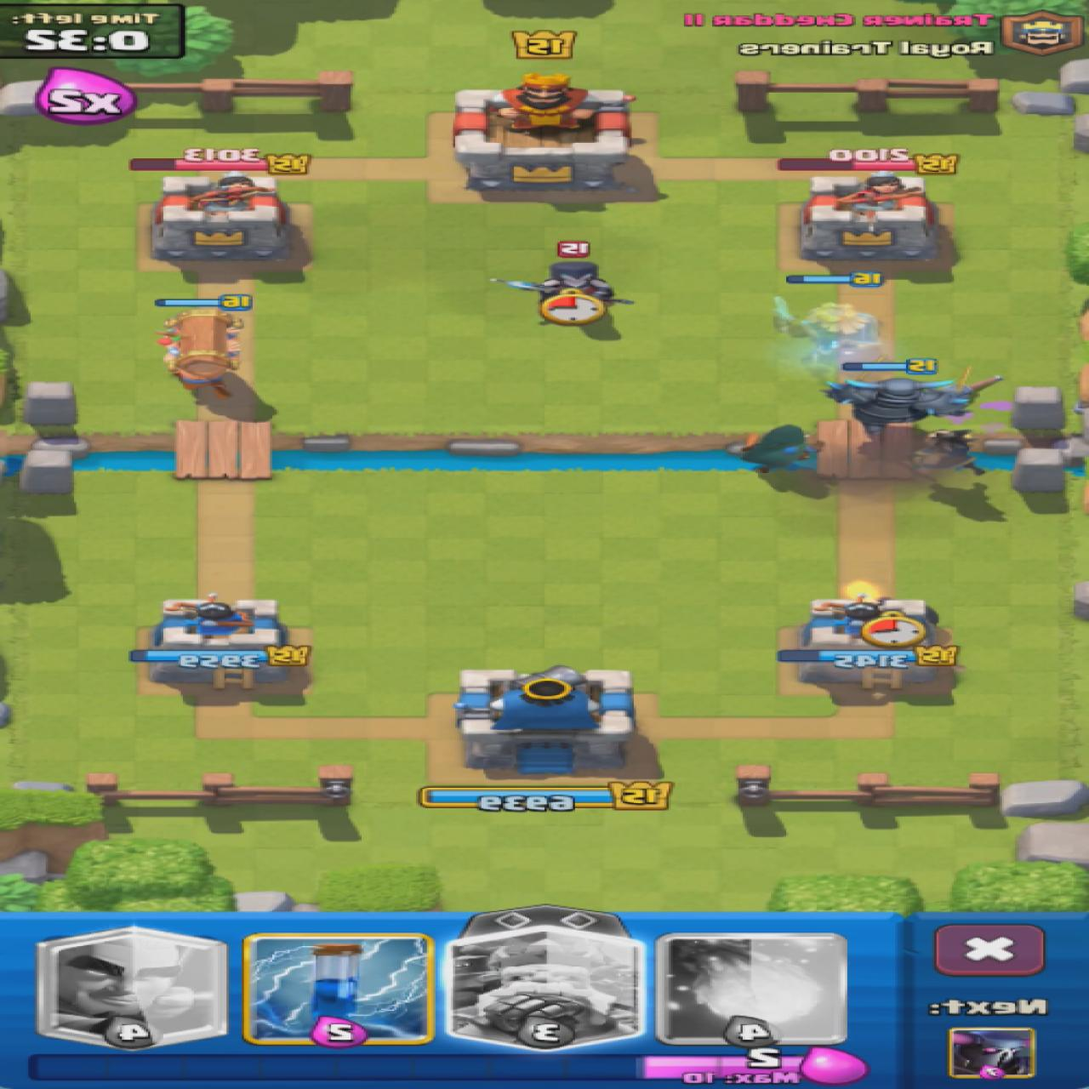Enemy-KingTower: (455, 74, 632, 192)
Enemy-NightWitch: (487, 260, 635, 307)
Enemy-PrincessTower: (802, 165, 941, 262), (152, 171, 292, 262)
